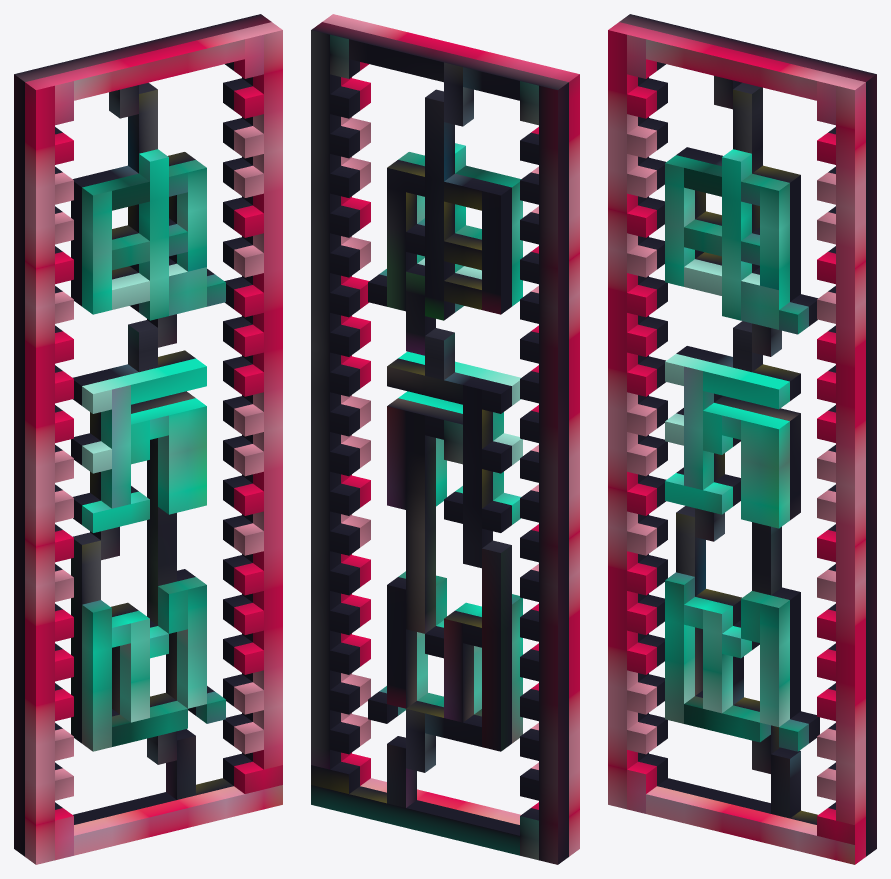
File: Billboard_Chinese2_00.fbx
3 renders of one model, left to right at view 1: azimuth 30°, elevation 25°; view 2: azimuth 150°, elevation 25°; view 3: azimuth 330°, elevation 25°, orthographic.
Visible parts, largest first — view 1: Billboard_Chinese2_00; view 2: Billboard_Chinese2_00; view 3: Billboard_Chinese2_00.
Part boxes in pixels (x1,y1,x2,y2): Billboard_Chinese2_00: (14, 14, 282, 864); Billboard_Chinese2_00: (311, 14, 579, 864); Billboard_Chinese2_00: (608, 14, 876, 864).
Size of the model in its own units: 65 by 195 by 10.
